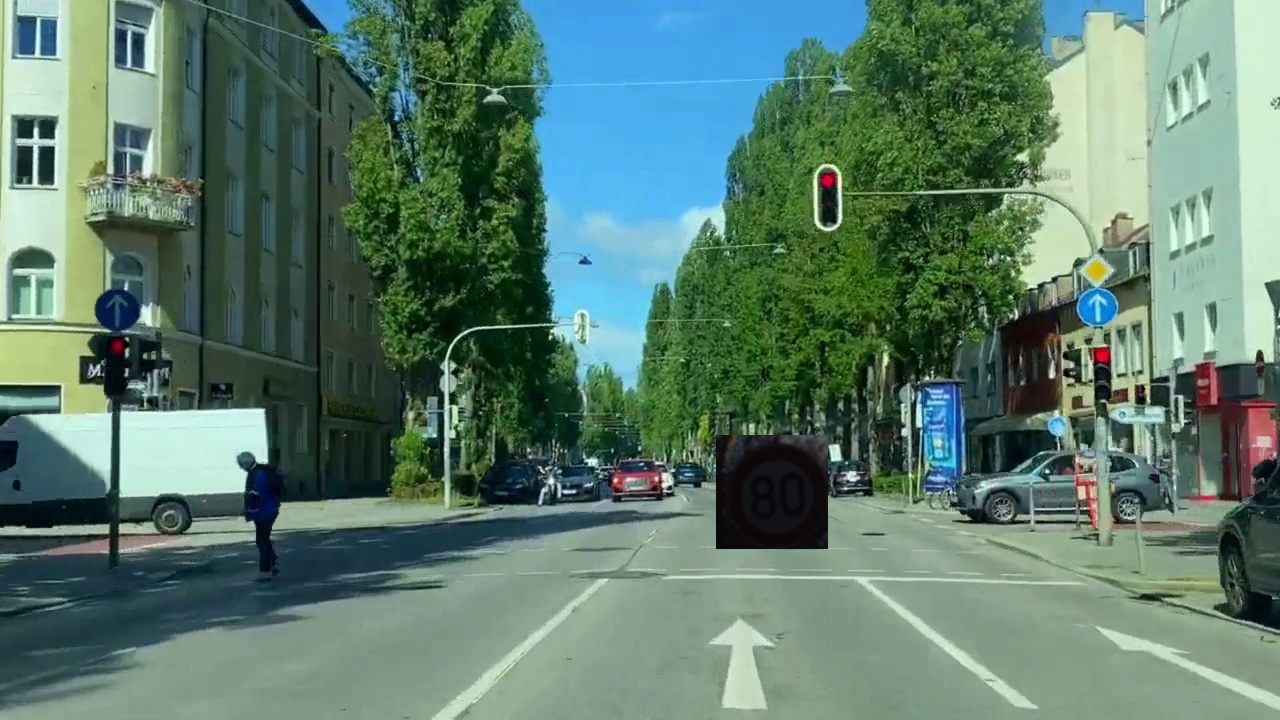Speed 80: (716, 435, 828, 549)
